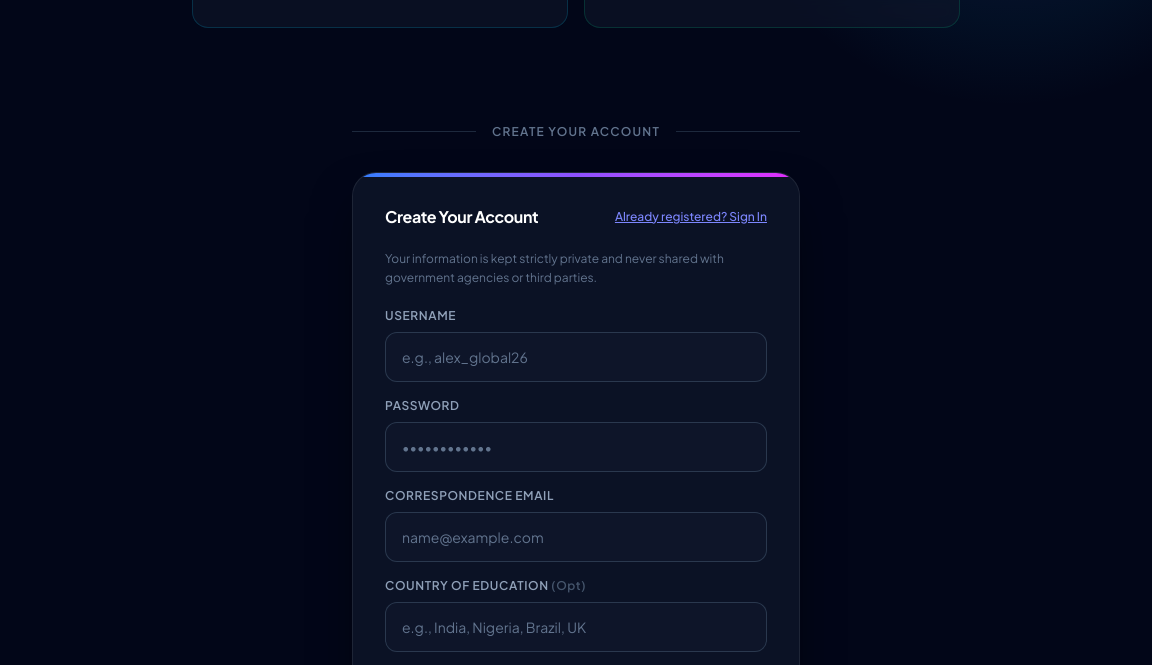
it: App — sign-up rejects duplicate username › shows an error when the submitted username already exists
(page scrolled)
In the field with test id "input-username": (576, 357) [385,332,767,382], type "alice"
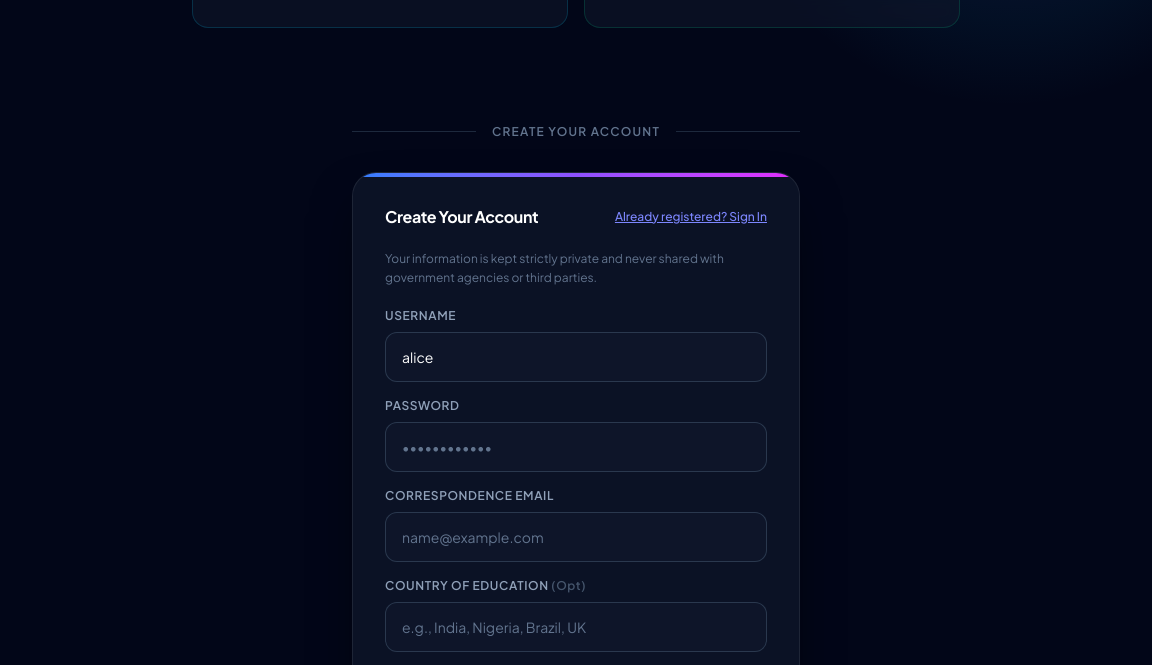
In the password field with test id "input-password": (576, 447) [385,422,767,472], type "any-password"
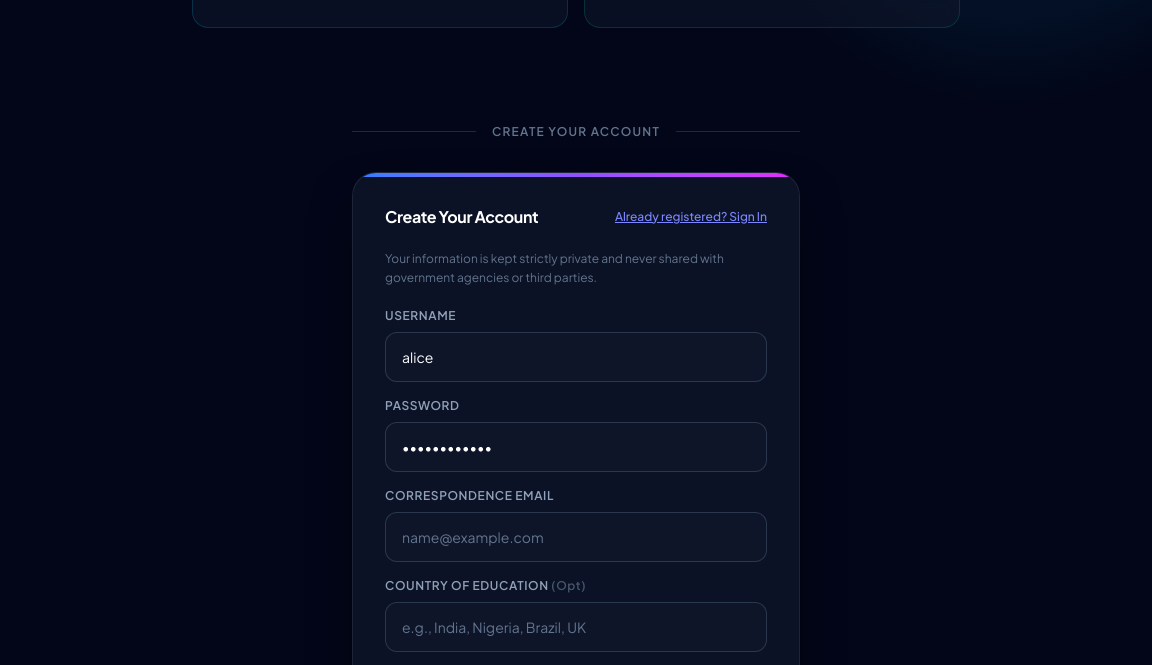
In the field with test id "input-email": (576, 537) [385,512,767,562], type "newalice@example.com"
(page scrolled)
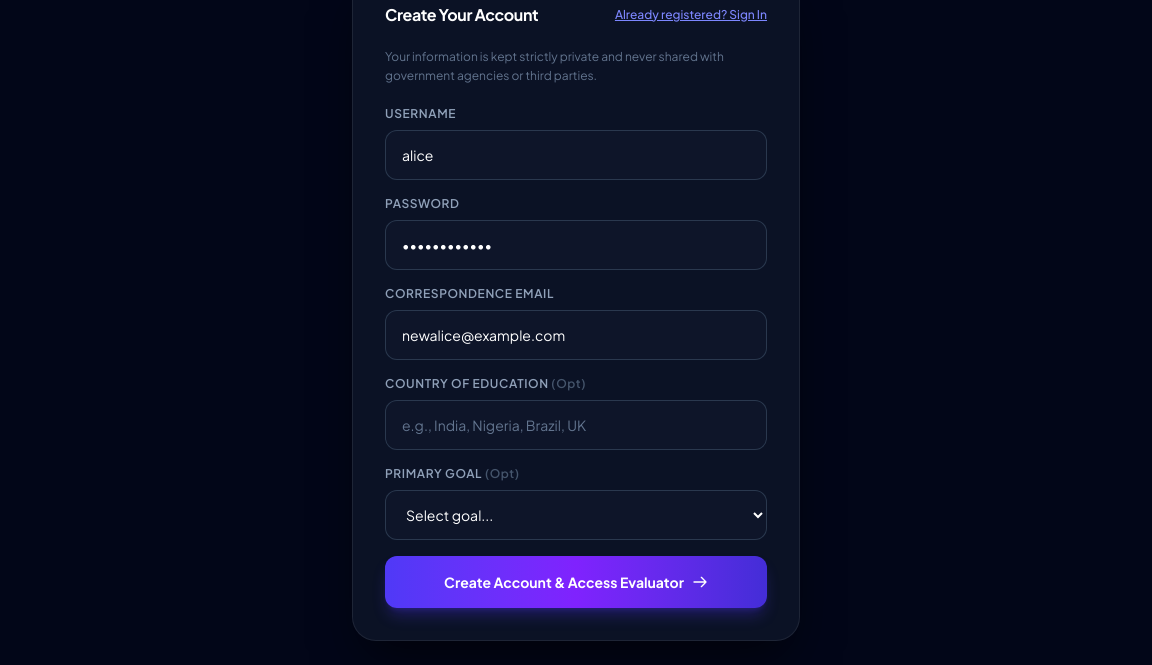
Submit the form with test id "form-auth", box [385,106,767,608]
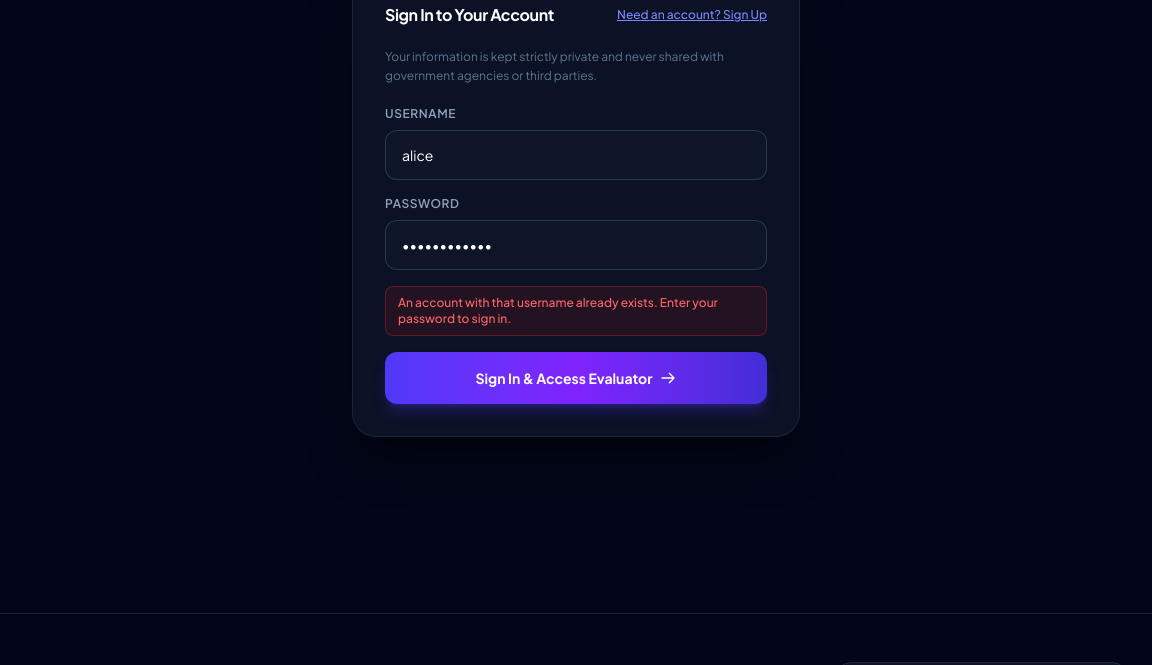
Check: the text "already exists" is shown, box [398,295,718,326]
